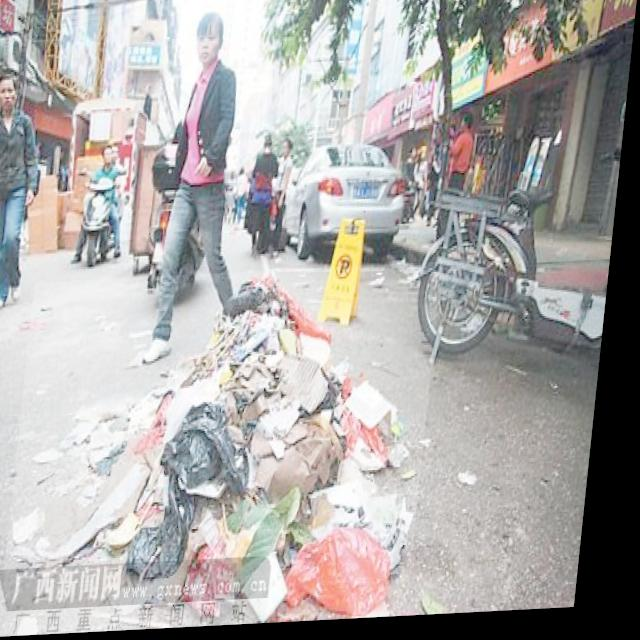garbage: (12, 267, 449, 635)
